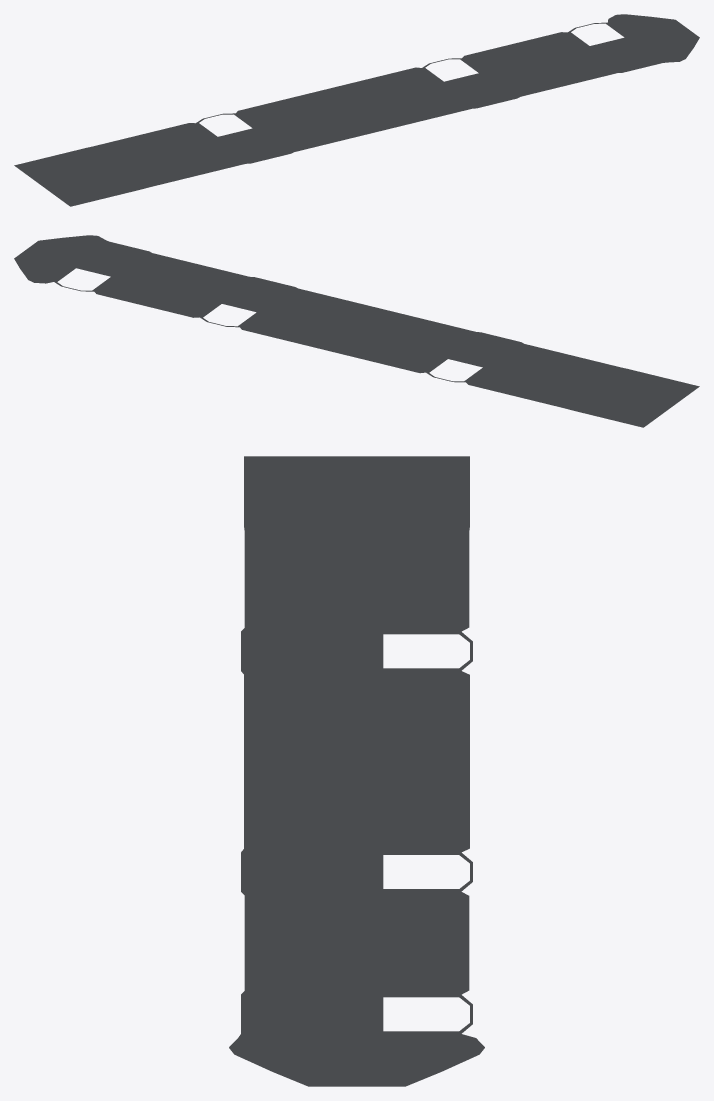
Rendered from Level_03_Floor_Fill.fbx.
3 views of the same model, one above another, from view 1: azimuth 30°, elevation 25°; view 2: azimuth 150°, elevation 25°; view 3: azimuth 270°, elevation 25° (orthographic). The views are drawn at different scales.
Visible parts, largest first — view 1: Level_03_Floor_Fill; view 2: Level_03_Floor_Fill; view 3: Level_03_Floor_Fill.
Part boxes in pixels (left/top/right/bottom): Level_03_Floor_Fill: left=14, top=14, right=699, bottom=206; Level_03_Floor_Fill: left=14, top=235, right=699, bottom=427; Level_03_Floor_Fill: left=229, top=456, right=484, bottom=1086.
Size of the model in its own units: 257 by 4.88e-06 by 44.2.
